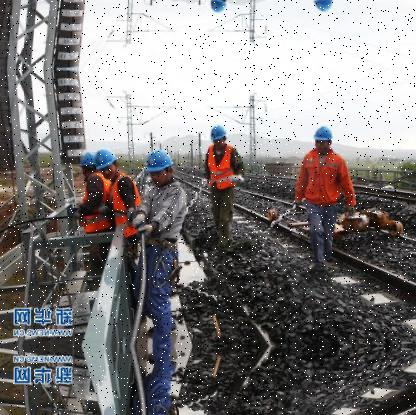helmet: (146, 145, 178, 184), (313, 122, 337, 152), (97, 146, 119, 175), (209, 119, 230, 147), (80, 150, 98, 179), (209, 0, 231, 18), (312, 0, 337, 15)
